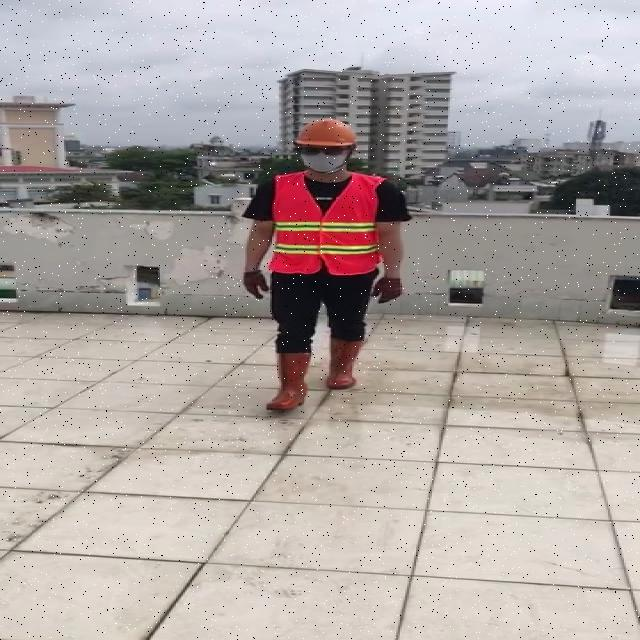Hard_hat: (291, 119, 358, 158)
Person: (237, 123, 417, 434)
Vest: (270, 169, 383, 279)
